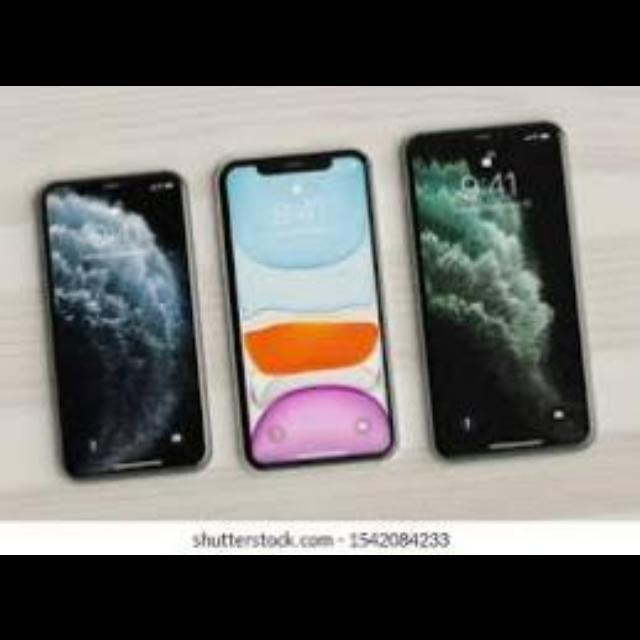Phone: (404, 118, 600, 462), (218, 147, 400, 473), (40, 172, 212, 478)
